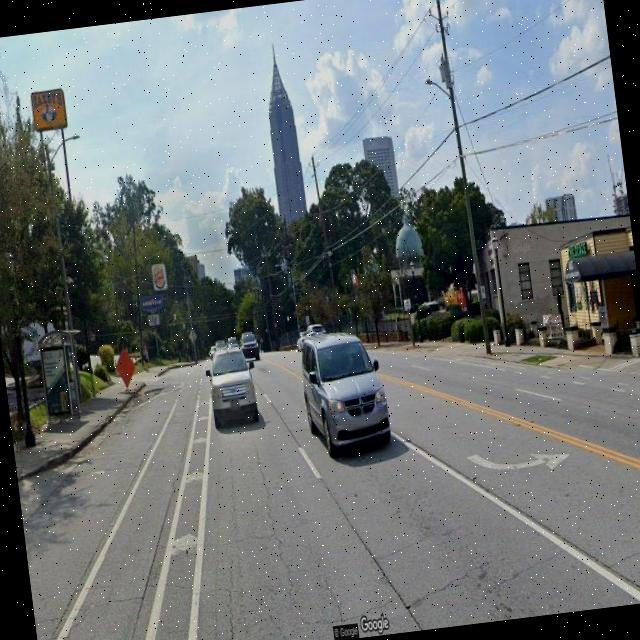shelter: (36, 326, 92, 430)
trash_can: (68, 380, 79, 416)
